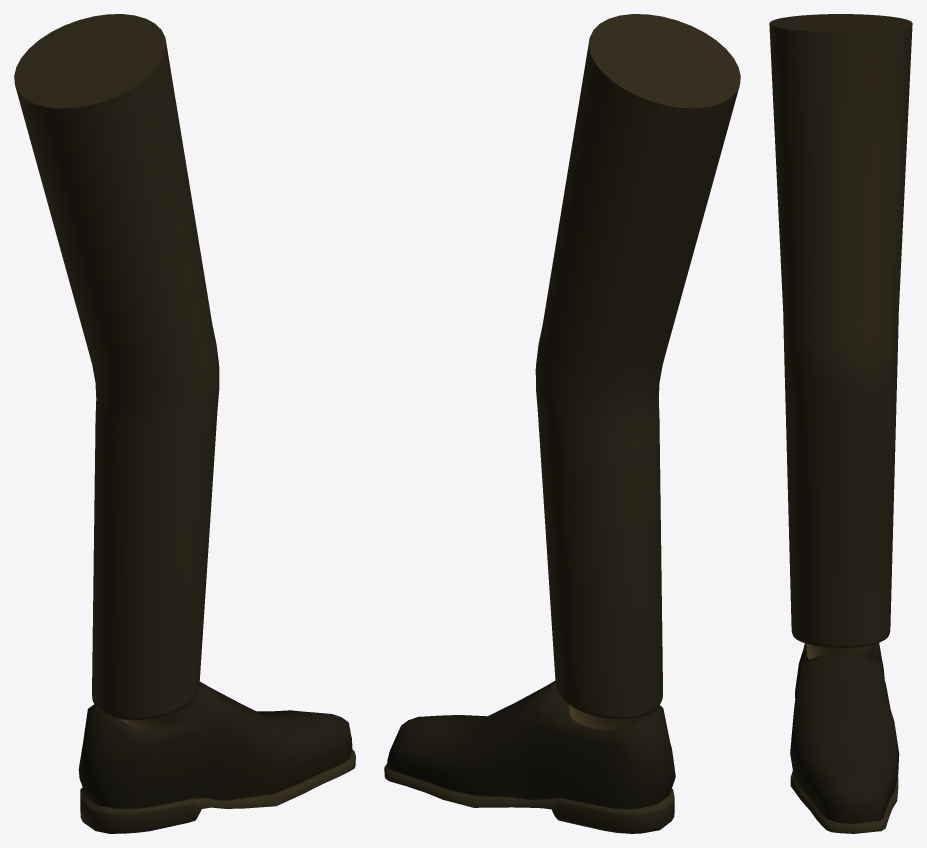
Rendered from legEnemy2.fbx.
The picture shows the model from 3 angles, left to right: view 1: azimuth 30°, elevation 25°; view 2: azimuth 150°, elevation 25°; view 3: azimuth 270°, elevation 25°; orthographic projection. The views are drawn at different scales.
Visible parts, largest first — view 1: legEnemy, legEnemy.001, legEnemy.002; view 2: legEnemy, legEnemy.001, legEnemy.002; view 3: legEnemy, legEnemy.001, legEnemy.002.
Boxes of the visible parts, x1,y1,x2,y2 form: legEnemy: (14,14,219,720); legEnemy.001: (78,681,355,833); legEnemy.002: (119,706,185,731); legEnemy: (535,14,740,719); legEnemy.001: (384,681,675,833); legEnemy.002: (569,705,635,730); legEnemy: (769,14,912,647); legEnemy.001: (790,642,899,833); legEnemy.002: (806,644,875,659).
Size of the model in its own units: 526 by 1194 by 217.
